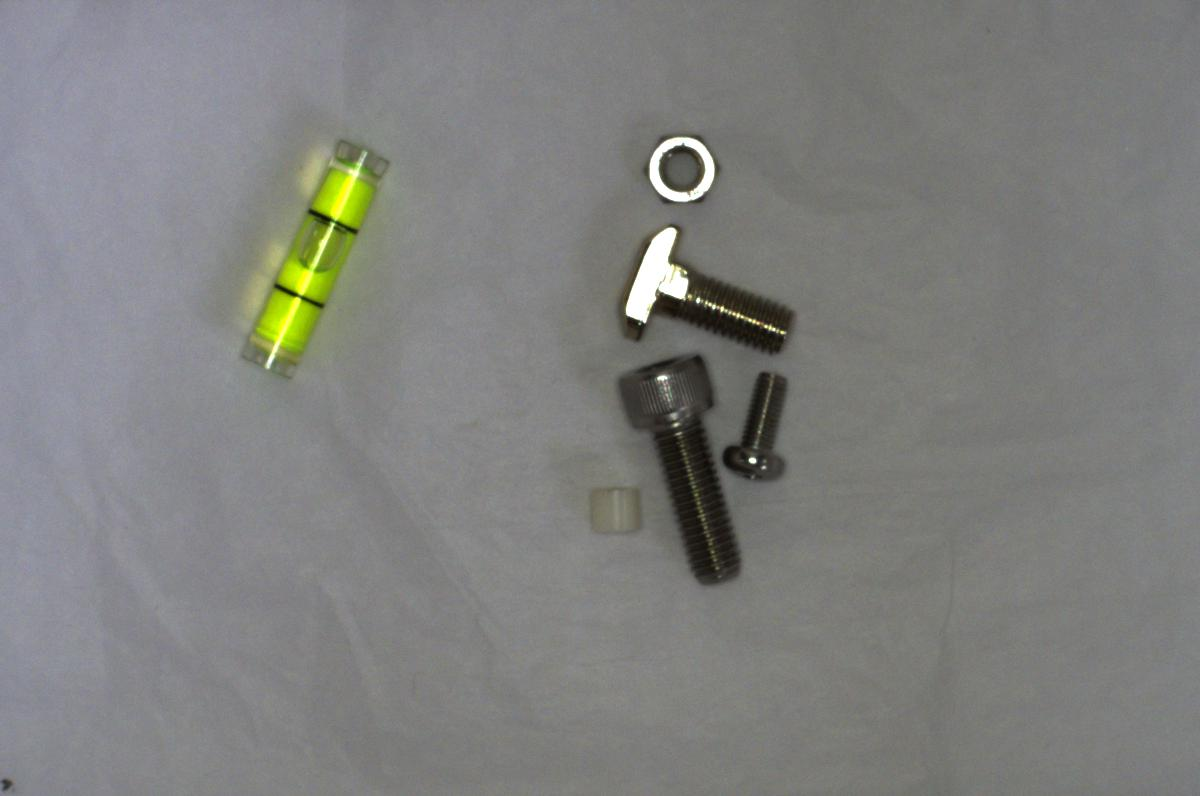Hexagon nut: (634, 127, 725, 212)
Hexagon screw: (615, 345, 752, 595)
Horizontal bubble: (232, 130, 386, 387)
Plastic cushion pillar: (578, 474, 660, 546)
Round head screw: (717, 362, 799, 494)
T-shaped screw: (611, 219, 798, 354)
